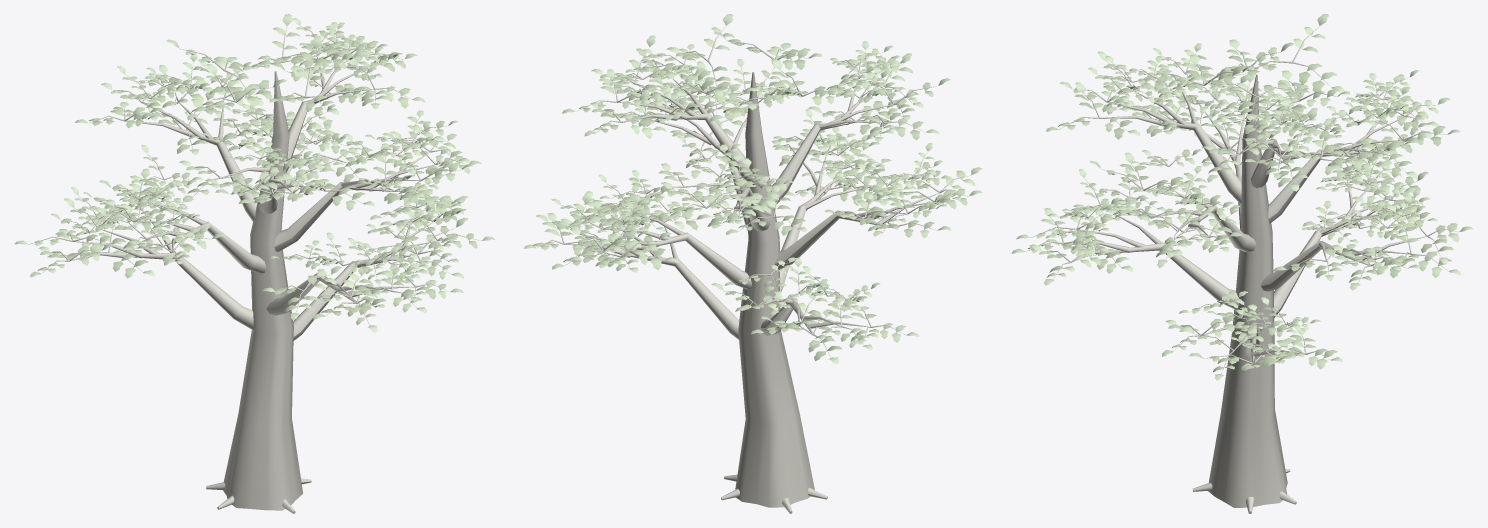
The model's file is SM_WLA_OakAncient_A.fbx.
The picture shows the model from 3 angles, left to right: view 1: azimuth 30°, elevation 25°; view 2: azimuth 150°, elevation 25°; view 3: azimuth 270°, elevation 25°; orthographic projection.
Parts seen in each view (by area): view 1: SM_WLA_OakAncient_A; view 2: SM_WLA_OakAncient_A; view 3: SM_WLA_OakAncient_A.
Part boxes in pixels (left/top/right/bottom): SM_WLA_OakAncient_A: left=14, top=14, right=495, bottom=513; SM_WLA_OakAncient_A: left=524, top=14, right=982, bottom=513; SM_WLA_OakAncient_A: left=1011, top=14, right=1472, bottom=513.
Size of what is drawn, in the model's own units: 10.06 by 10.49 by 10.87.
